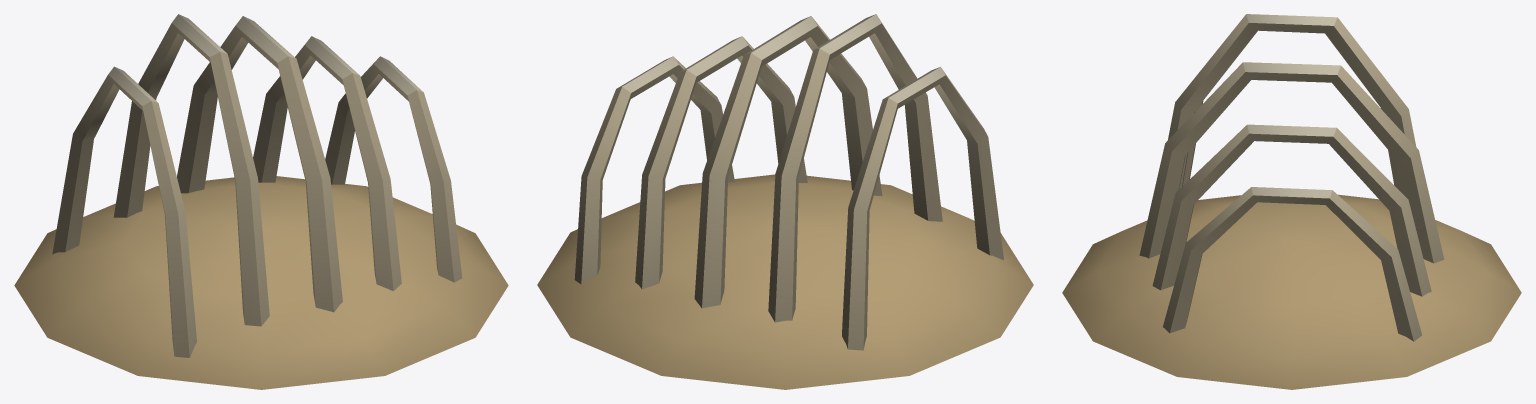
Rendered from desert_ruin_c.glb.
3 views of the same model, side by side, from view 1: azimuth 30°, elevation 25°; view 2: azimuth 150°, elevation 25°; view 3: azimuth 270°, elevation 25° (orthographic). The views are drawn at different scales.
Visible parts, largest first — view 1: desert_ruin_c; view 2: desert_ruin_c; view 3: desert_ruin_c.
Part boxes in pixels (x1,y1,x2,y2): desert_ruin_c: [14, 14, 508, 389]; desert_ruin_c: [537, 14, 1033, 389]; desert_ruin_c: [1062, 14, 1521, 389].
Size of the model in its own units: 2 by 1.2 by 2.
